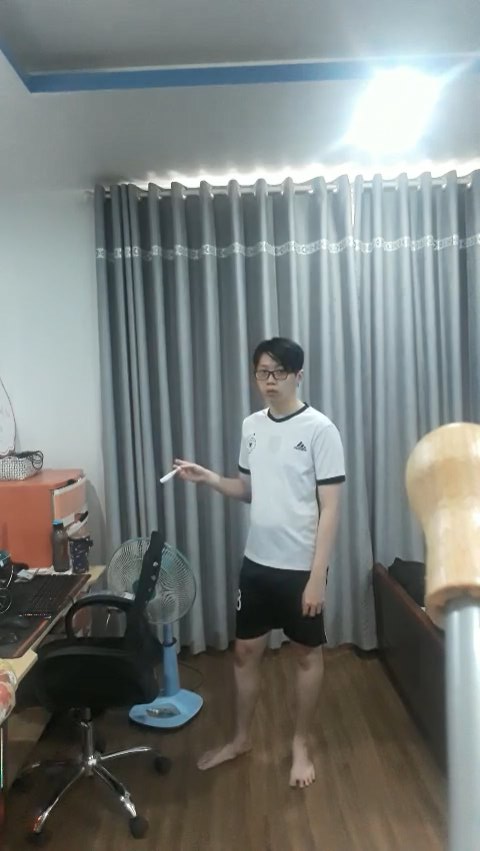cigarette: (159, 468, 181, 485)
person: (201, 332, 354, 802)
